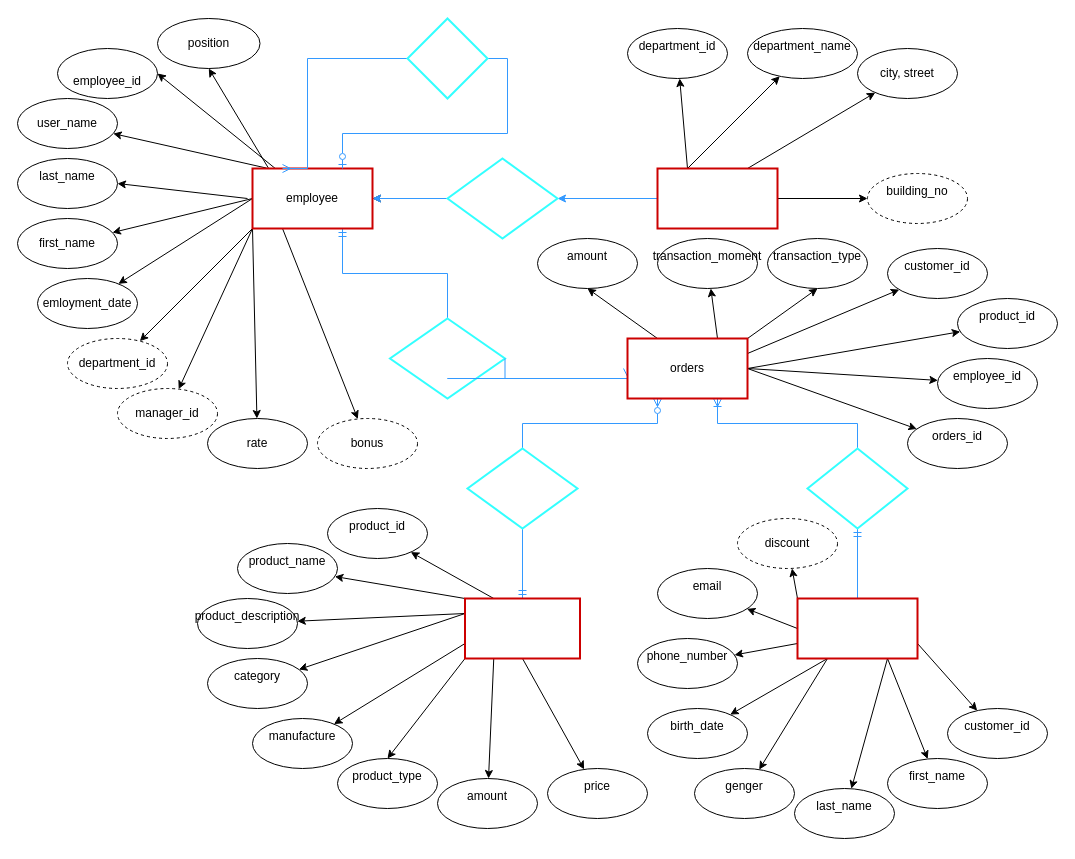
Image size: 1075x859. Some labels were removed from this diagram. Here are the shapes that lost their labels. From the top down, the centre of each, then its label:
At [447,58]: "manages".
At [502,198]: "works_for".
At [717,198]: "depaetament".
At [447,358]: "places".
At [522,488]: "sells".
At [857,488]: "buys".
At [522,628]: "product".
At [857,628]: "customers".
